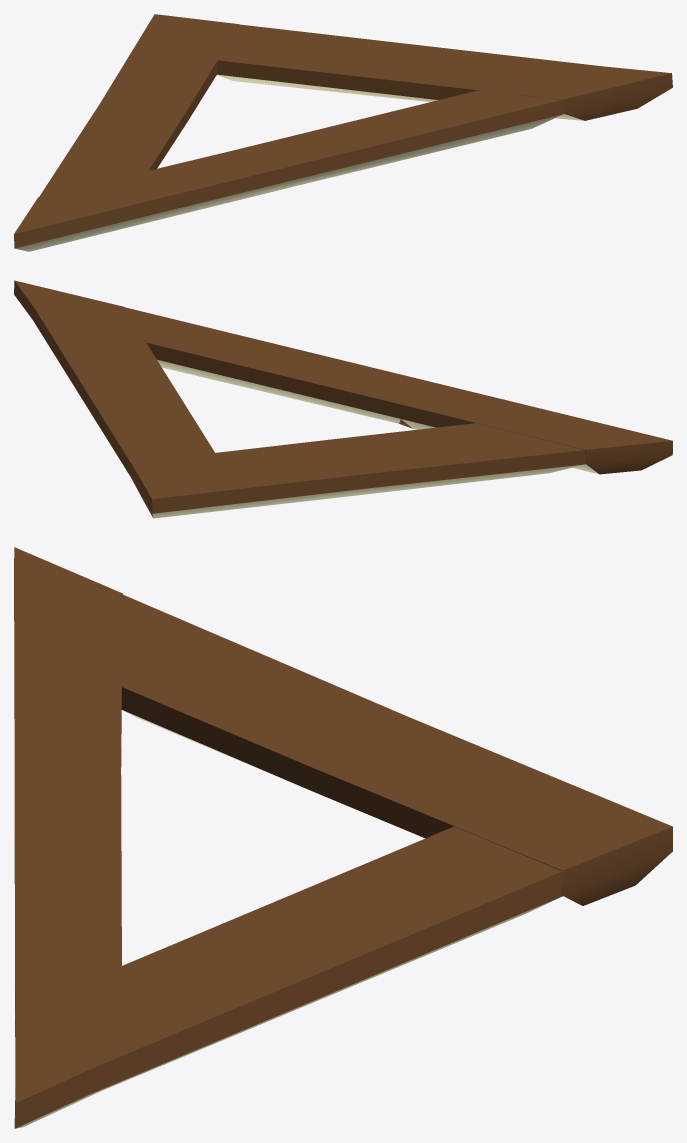
The model's file is rt90_wood_2_birchSplitLogTriFloorSection1.glb.
The picture shows the model from 3 angles, top to bottom: view 1: azimuth 30°, elevation 25°; view 2: azimuth 150°, elevation 25°; view 3: azimuth 270°, elevation 25°; orthographic projection. The views are drawn at different scales.
Visible parts, largest first — view 1: Outside; view 2: Outside; view 3: Outside.
Part boxes in pixels (x1=…): Outside: x1=14, y1=14, x2=672, y2=251; Outside: x1=14, y1=280, x2=672, y2=518; Outside: x1=14, y1=547, x2=672, y2=1128.
Size of the model in its own units: 2.86 by 0.1233 by 1.43.
